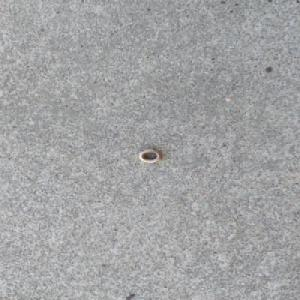Nut: (137, 148, 162, 163)
